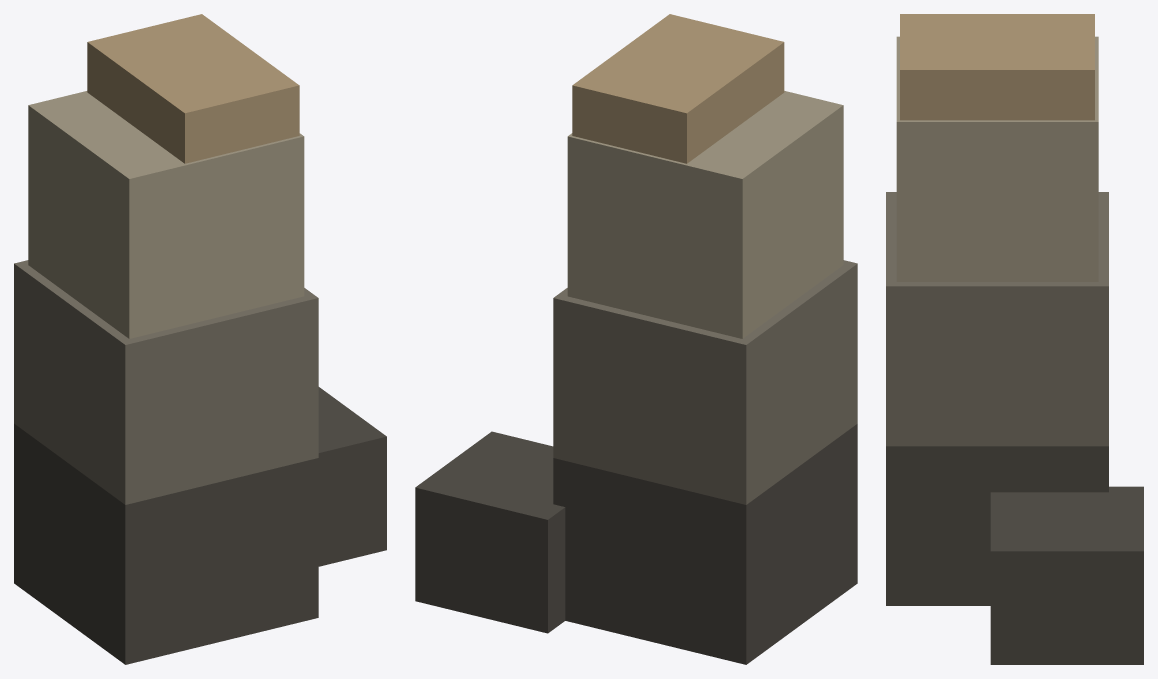
File: TW_STONE_END_RUIN_A_LOD0.glb
3 views of the same model, side by side, from view 1: azimuth 30°, elevation 25°; view 2: azimuth 150°, elevation 25°; view 3: azimuth 270°, elevation 25° (orthographic).
Parts seen in each view (by area): view 1: TW_STONE_END_RUIN_A_LOD0; view 2: TW_STONE_END_RUIN_A_LOD0; view 3: TW_STONE_END_RUIN_A_LOD0.
Boxes of the visible parts, left/top/right/bottom form: TW_STONE_END_RUIN_A_LOD0: left=14, top=14, right=386, bottom=664; TW_STONE_END_RUIN_A_LOD0: left=415, top=14, right=857, bottom=664; TW_STONE_END_RUIN_A_LOD0: left=886, top=14, right=1143, bottom=664.
Bounding box in the file's own units: 0.52 × 0.84 × 0.37.
1 material, 1 textured.
